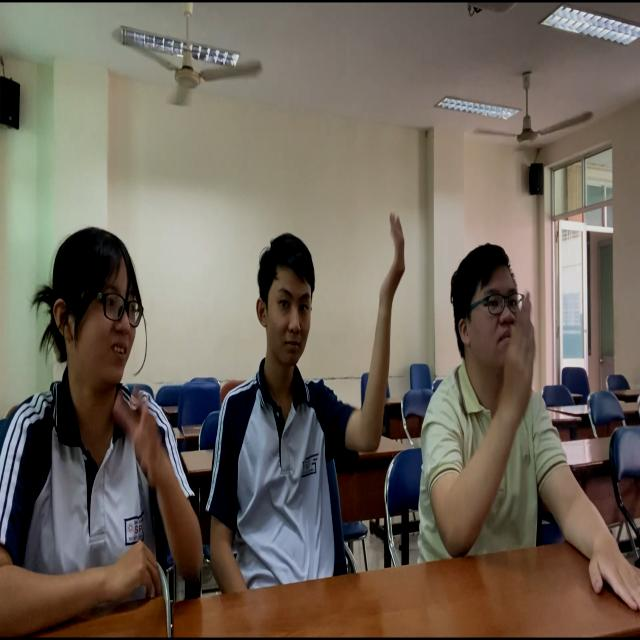raise_hand: (413, 232, 581, 615)
